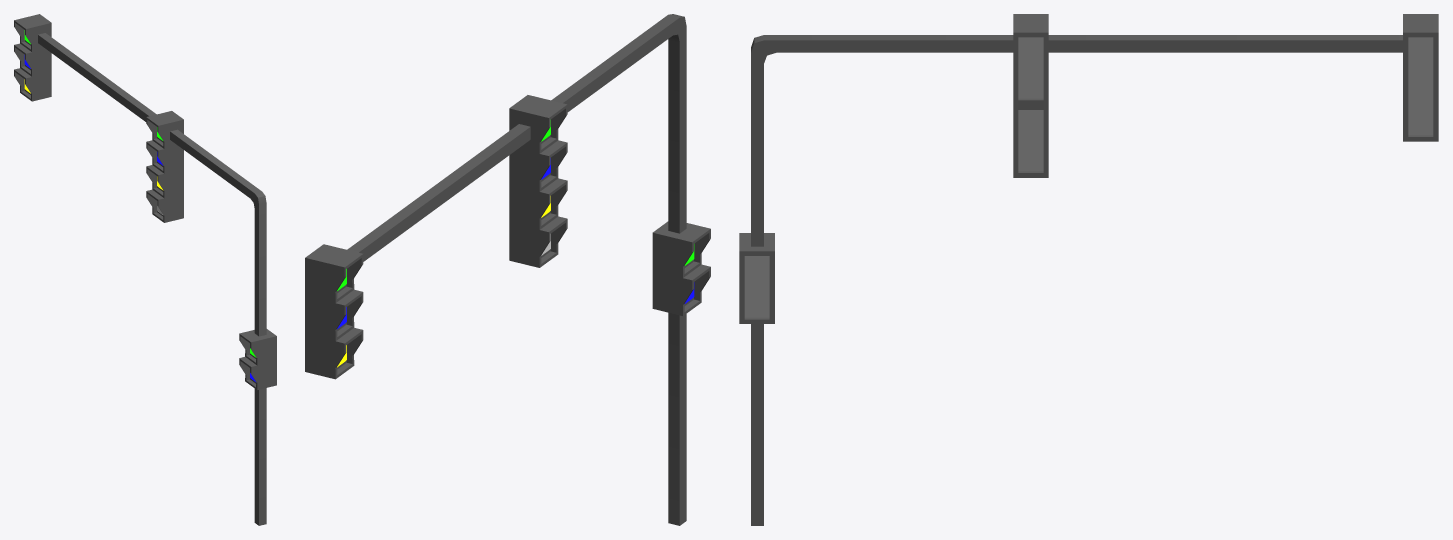
File: Traffic_Light.FBX
3 views of the same model, side by side, from view 1: azimuth 30°, elevation 25°; view 2: azimuth 150°, elevation 25°; view 3: azimuth 270°, elevation 25° (orthographic). The views are drawn at different scales.
Visible parts, largest first — view 1: Traffic_Light_Frame_LOD0, Light_01_LOD0, Light_02_LOD0, Light_03_LOD0; view 2: Traffic_Light_Frame_LOD0, Light_01_LOD0, Light_02_LOD0, Light_03_LOD0; view 3: Traffic_Light_Frame_LOD0, Light_01_LOD0, Light_02_LOD0, Light_03_LOD0.
Boxes of the visible parts, x1,y1,x2,y2 form: Traffic_Light_Frame_LOD0: (38, 33, 266, 525); Light_01_LOD0: (146, 111, 183, 222); Light_02_LOD0: (14, 14, 51, 101); Light_03_LOD0: (239, 329, 276, 390); Traffic_Light_Frame_LOD0: (347, 14, 686, 525); Light_01_LOD0: (509, 95, 567, 267); Light_02_LOD0: (305, 244, 363, 379); Light_03_LOD0: (652, 221, 710, 315); Traffic_Light_Frame_LOD0: (751, 35, 1402, 525); Light_01_LOD0: (1013, 14, 1048, 177); Light_02_LOD0: (1403, 14, 1438, 141); Light_03_LOD0: (739, 233, 774, 323).
Size of what is drawn, in the model's own units: 21.14 by 266 by 338.
